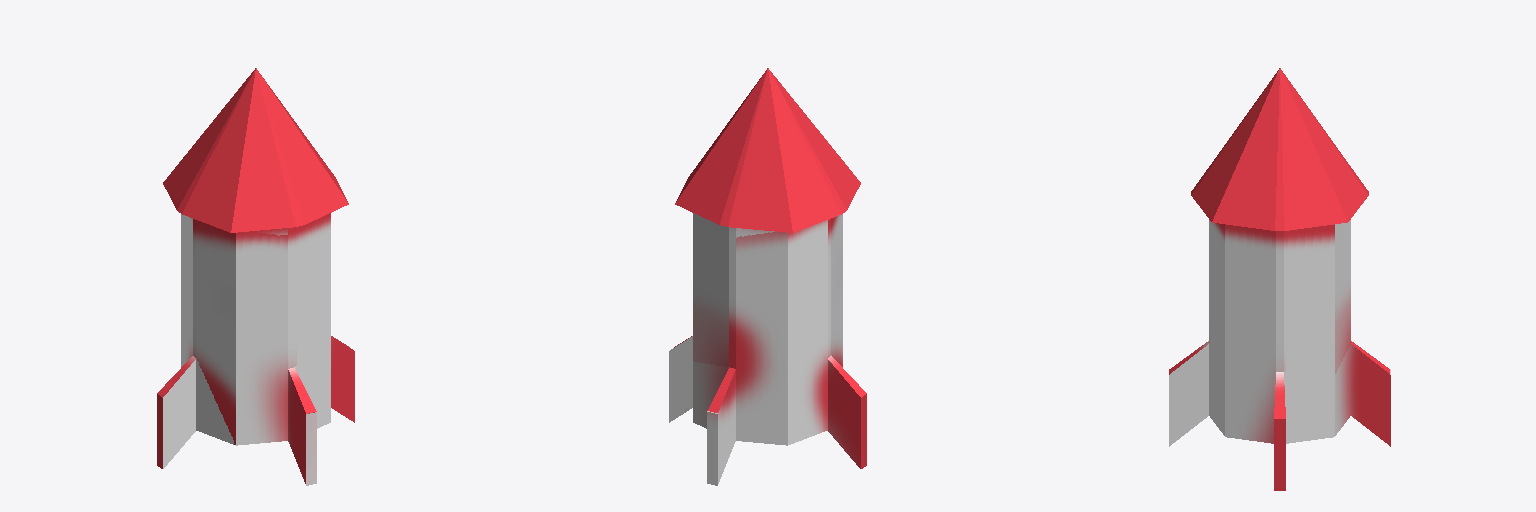
3 views of the same model, side by side, from view 1: azimuth 30°, elevation 25°; view 2: azimuth 150°, elevation 25°; view 3: azimuth 270°, elevation 25° (orthographic).
Parts seen in each view (by area): view 1: Cube_Cube.001; view 2: Cube_Cube.001; view 3: Cube_Cube.001.
Part boxes in pixels (x1,y1,x2,y2): Cube_Cube.001: (157, 68, 354, 485); Cube_Cube.001: (669, 68, 866, 485); Cube_Cube.001: (1169, 68, 1390, 490).
Bounding box in the file's own units: 4.06 × 7.6 × 4.06.
1 materials, 1 textured.